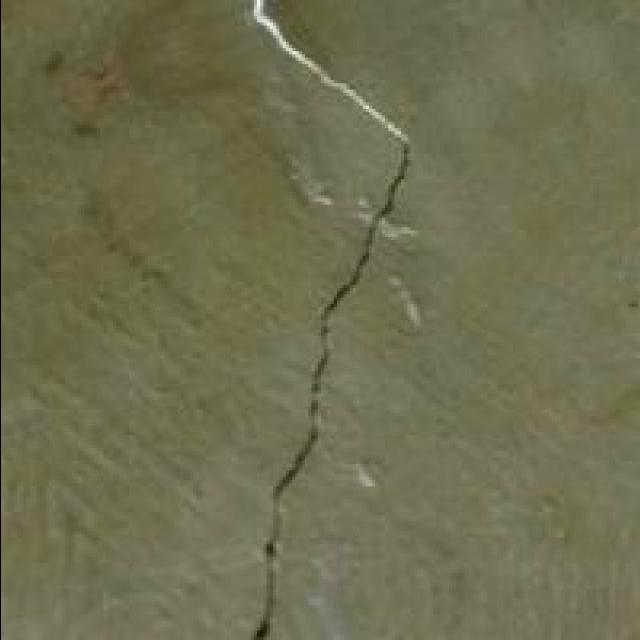SurfaceCrack: (210, 0, 438, 640)
